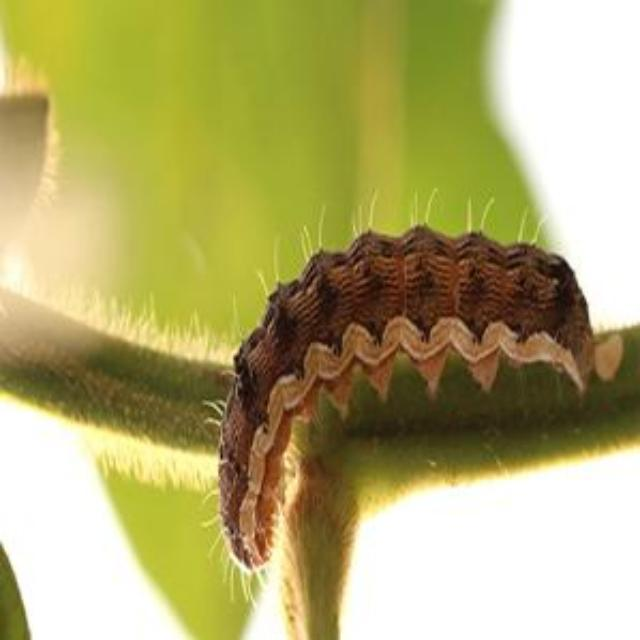Cotton bollworm: (162, 200, 620, 582)
